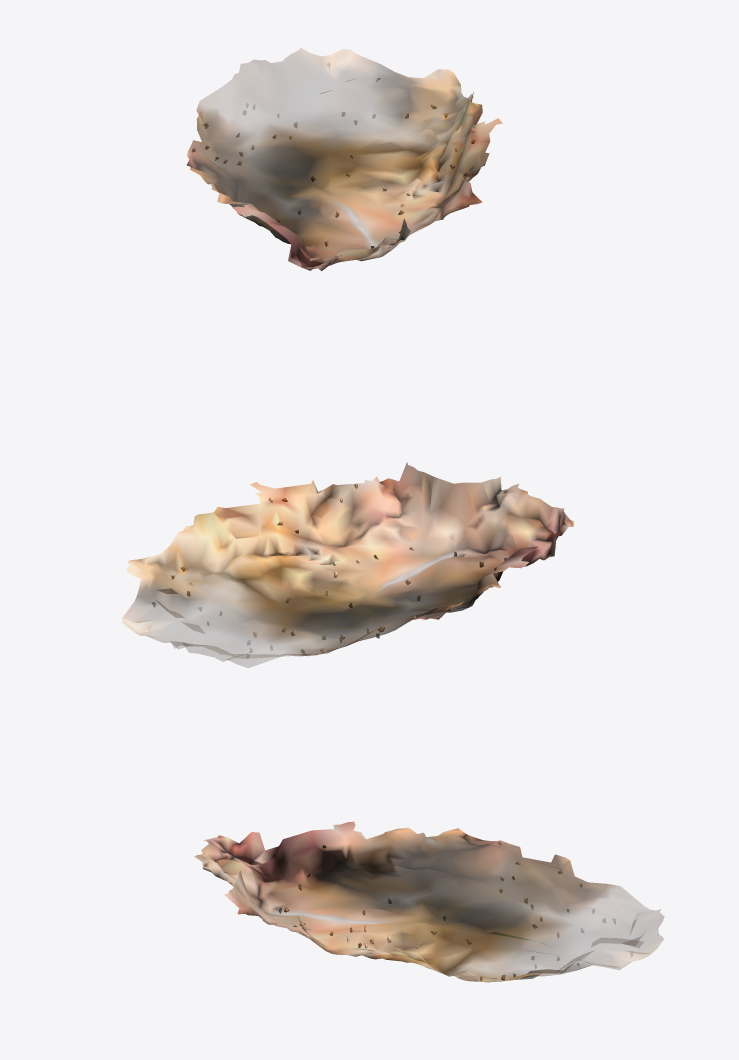
3 renders of one model, top to bottom at view 1: azimuth 30°, elevation 25°; view 2: azimuth 150°, elevation 25°; view 3: azimuth 270°, elevation 25°, orthographic.
Visible parts, largest first — view 1: Landscape.002; view 2: Landscape.002; view 3: Landscape.002.
Boxes of the visible parts, x1=… form: Landscape.002: x1=187, y1=48, x2=502, y2=270; Landscape.002: x1=122, y1=462, x2=574, y2=667; Landscape.002: x1=194, y1=821, x2=664, y2=982.
Bounding box in the file's own units: 105 × 18.89 × 106.
8 materials, 2 textured.
